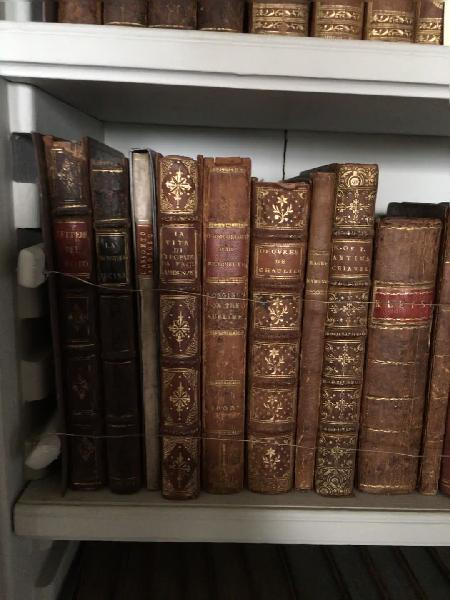Aa6-1: (39, 123, 113, 495)
Aa6-2: (80, 151, 150, 497)
Aa6-3: (124, 144, 170, 499)
Aa6-4: (150, 150, 204, 497)
Aa6-5: (190, 145, 254, 502)
Aa6-6: (244, 172, 312, 496)
Aa6-7: (293, 165, 338, 496)
Aa6-8: (314, 155, 379, 496)
Aa6-9: (351, 212, 442, 496)
